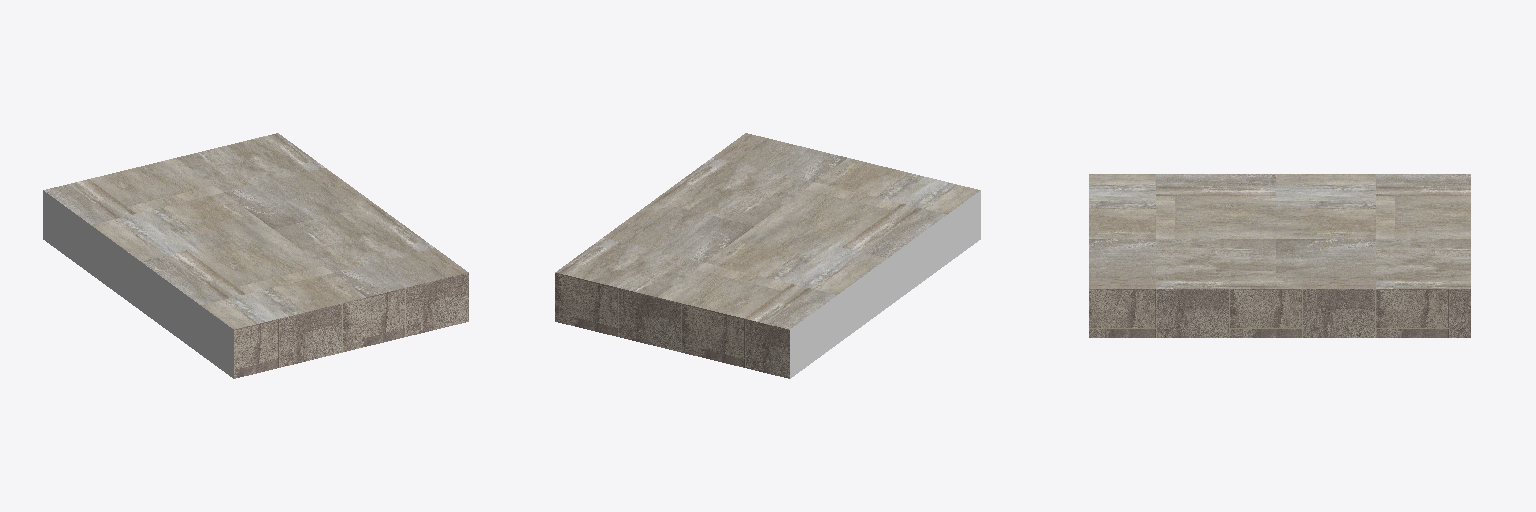
The picture shows the model from 3 angles: view 1: azimuth 30°, elevation 25°; view 2: azimuth 150°, elevation 25°; view 3: azimuth 270°, elevation 25°; orthographic projection.
Parts seen in each view (by area): view 1: Mesh1 Model; view 2: Mesh1 Model; view 3: Mesh1 Model.
Boxes of the visible parts, x1,y1,x2,y2 form: Mesh1 Model: [43, 133, 468, 378]; Mesh1 Model: [555, 133, 980, 378]; Mesh1 Model: [1089, 174, 1470, 337].
Size of the model in its own units: 74.47 by 14.93 by 105.
Materials: 3 (2 with a texture image).